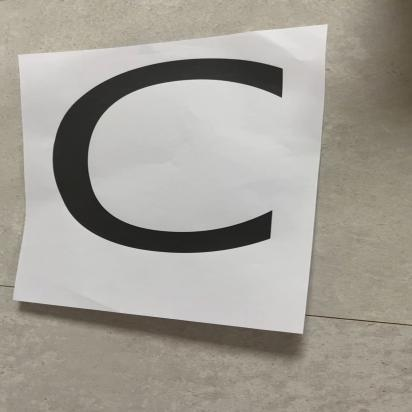seat: (22, 16, 324, 329)
